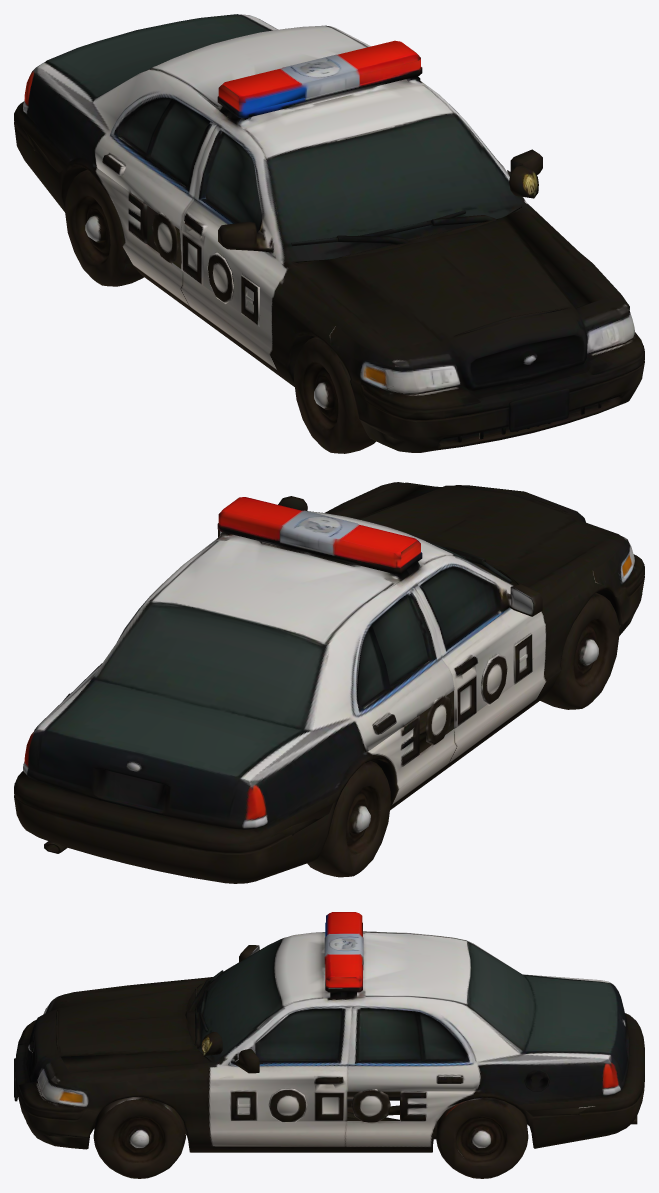
Rendered from a_police_car_c99c8099_v1.glb.
3 renders of one model, top to bottom at view 1: azimuth 30°, elevation 25°; view 2: azimuth 150°, elevation 25°; view 3: azimuth 270°, elevation 25°, orthographic. The views are drawn at different scales.
Visible parts, largest first — view 1: material; view 2: material; view 3: material.
Part boxes in pixels (<box>): material: <box>14,14,644,453</box>; material: <box>14,482,644,883</box>; material: <box>14,912,644,1178</box>.
Size of the model in its own units: 0.8339 by 0.6268 by 1.9.
Materials: 1 (1 with a texture image).
